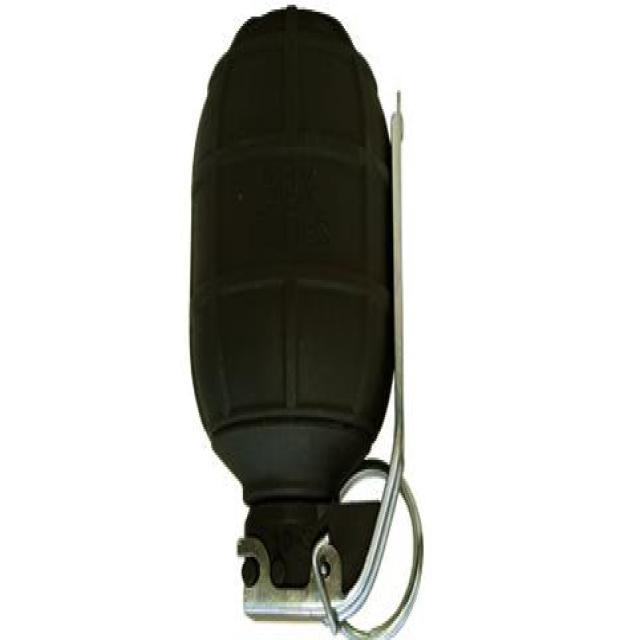grenade: (189, 6, 427, 640)
